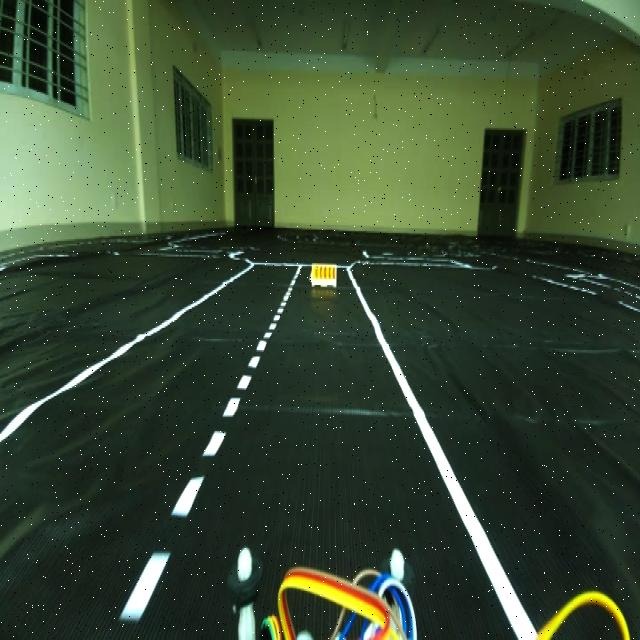roadblock: (305, 258, 342, 304)
